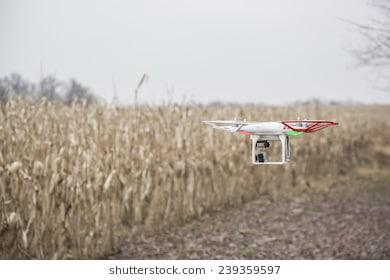drone: (197, 116, 338, 168)
